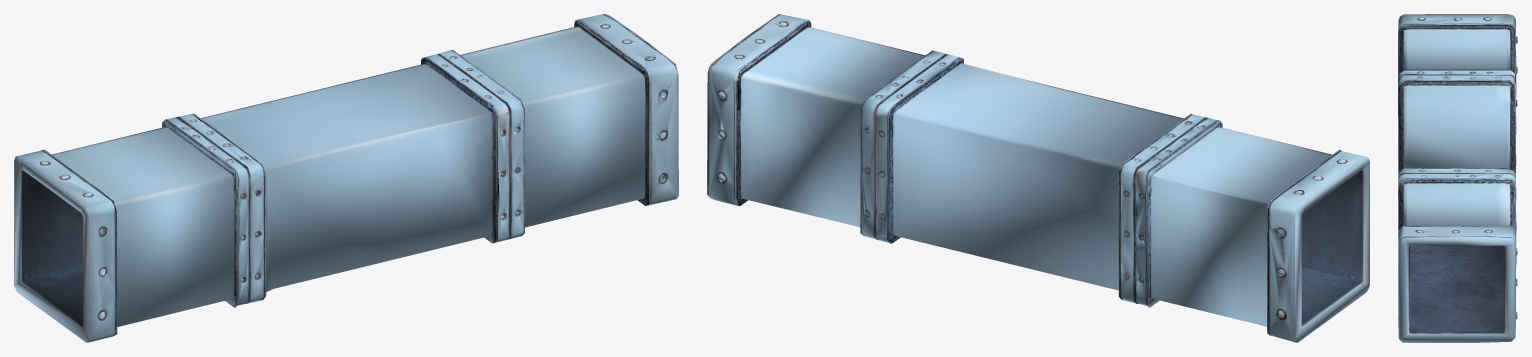
3 renders of one model, left to right at view 1: azimuth 30°, elevation 25°; view 2: azimuth 150°, elevation 25°; view 3: azimuth 270°, elevation 25°, orthographic. The views are drawn at different scales.
Parts seen in each view (by area): view 1: tripo_node_8d4110eb; view 2: tripo_node_8d4110eb; view 3: tripo_node_8d4110eb.
Boxes of the visible parts, box(x1,y1,x2,y2) form: tripo_node_8d4110eb: box(14, 14, 678, 342); tripo_node_8d4110eb: box(707, 14, 1369, 342); tripo_node_8d4110eb: box(1398, 14, 1517, 342).
Size of the model in its own units: 1 by 0.2269 by 0.2266.
